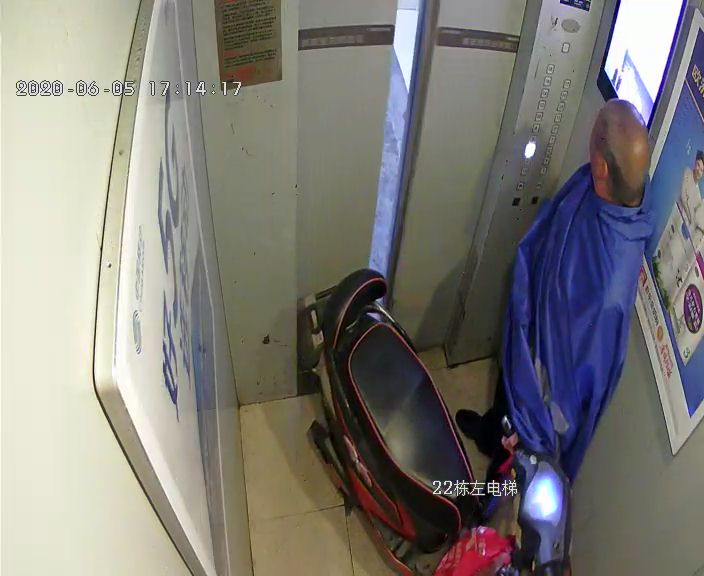Electric-bicycle: (303, 265, 571, 576)
